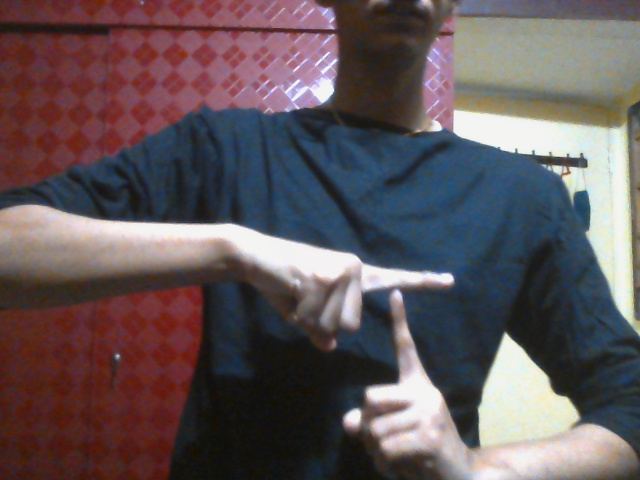T: (241, 227, 453, 480)
